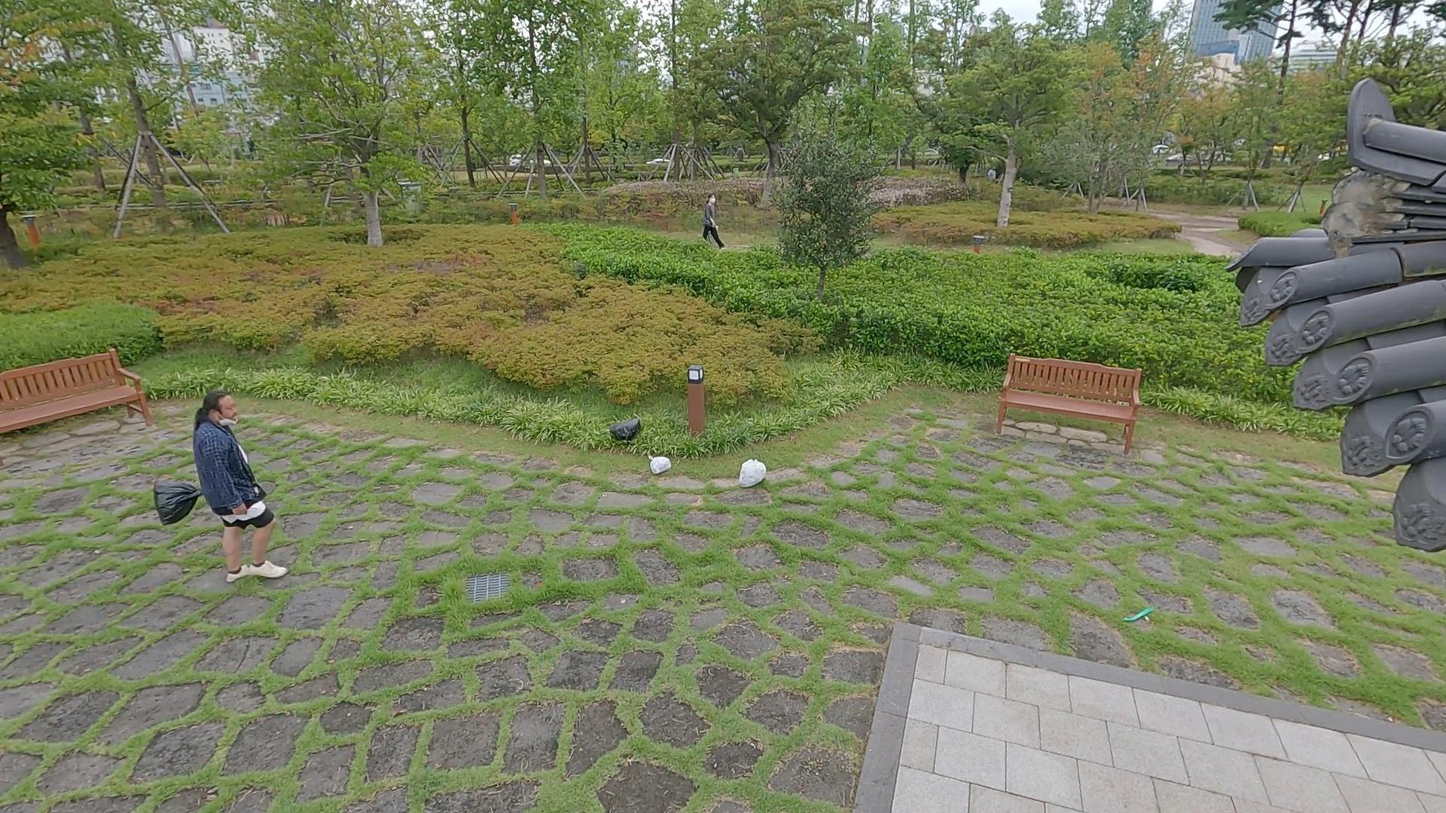person: (190, 387, 287, 589), (699, 186, 728, 253)
trash: (151, 480, 200, 529), (738, 456, 768, 490), (611, 414, 643, 443), (646, 453, 674, 474)
